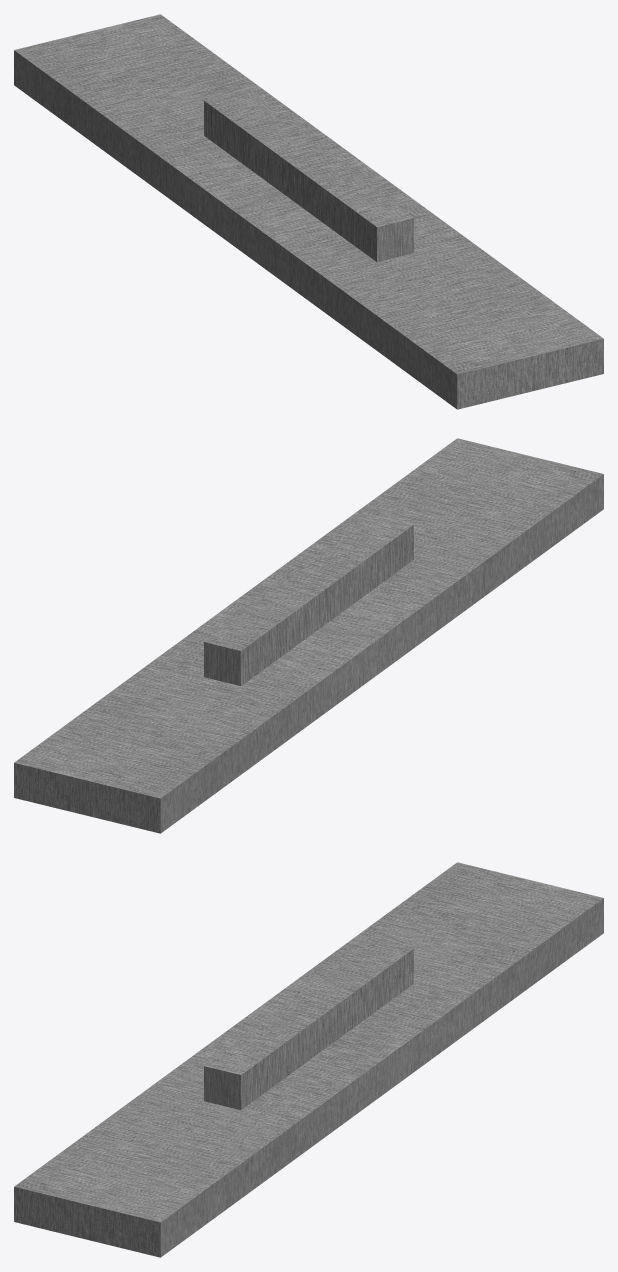
The model's file is LighStudio.fbx.
3 views of the same model, one above another, from view 1: azimuth 30°, elevation 25°; view 2: azimuth 150°, elevation 25°; view 3: azimuth 330°, elevation 25° (orthographic).
Visible parts, largest first — view 1: LighStudio; view 2: LighStudio; view 3: LighStudio.
Boxes of the visible parts, bbox=[...] form: LighStudio: bbox=[14, 14, 603, 409]; LighStudio: bbox=[14, 438, 603, 833]; LighStudio: bbox=[14, 862, 603, 1257].
Size of the model in its own units: 46.59 by 21.33 by 244.
Materials: 1 (1 with a texture image).
